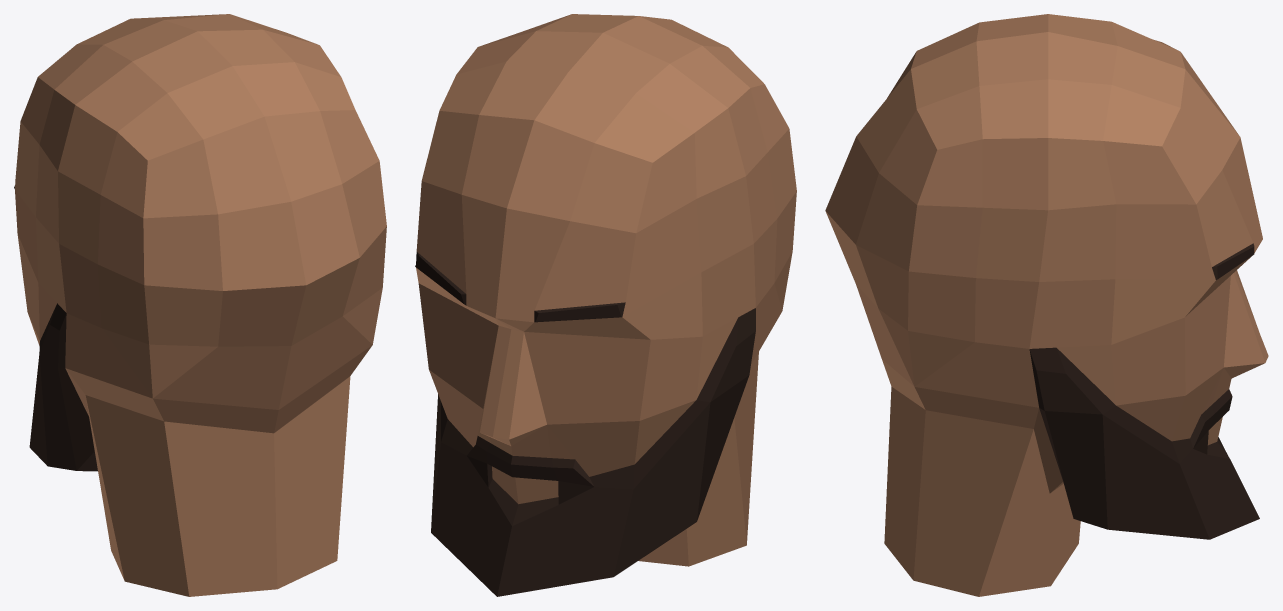
Rendered from head.glb.
The picture shows the model from 3 angles, left to right: view 1: azimuth 30°, elevation 25°; view 2: azimuth 150°, elevation 25°; view 3: azimuth 270°, elevation 25°; orthographic projection. The views are drawn at different scales.
Parts seen in each view (by area): view 1: Cube_0; view 2: Cube_0; view 3: Cube_0.
Part boxes in pixels (x1,y1,x2,y2): Cube_0: (14,14,386,596); Cube_0: (415,14,796,596); Cube_0: (825,14,1268,596).
Size of the model in its own units: 0.7693 by 1.28 by 1.
